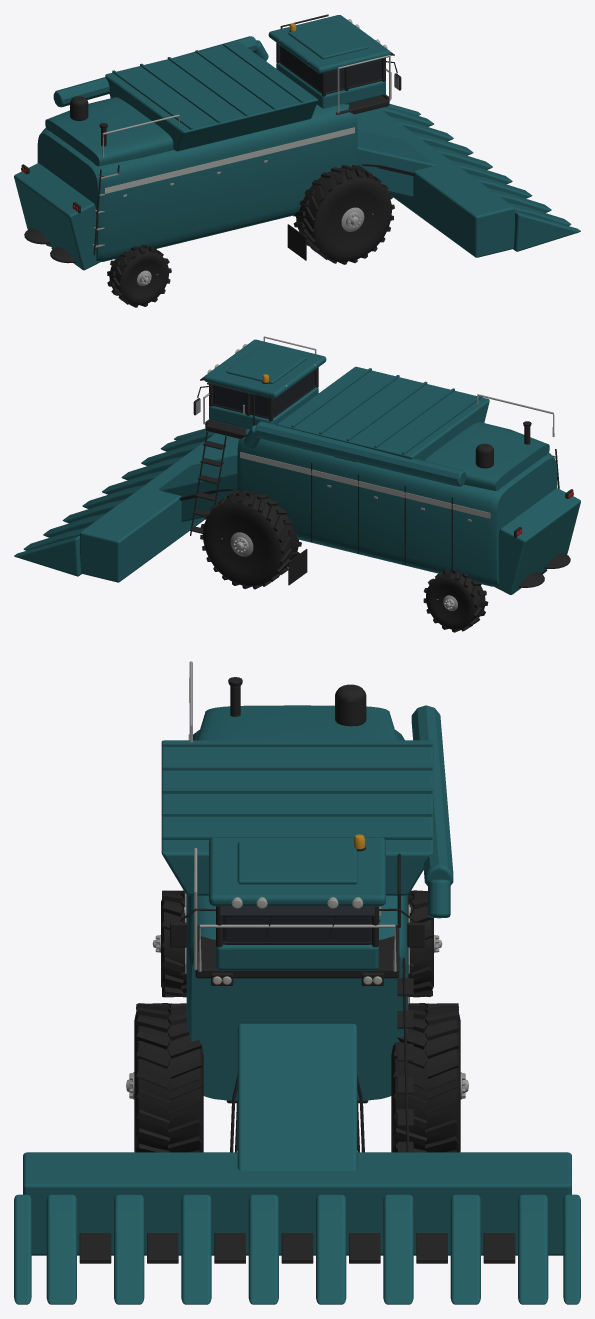
The model's file is SM_Prop_farm_combine_3.glb.
3 renders of one model, top to bottom at view 1: azimuth 30°, elevation 25°; view 2: azimuth 150°, elevation 25°; view 3: azimuth 270°, elevation 25°, orthographic. The views are drawn at different scales.
Visible parts, largest first — view 1: SM_Prop_farm_combine_3; view 2: SM_Prop_farm_combine_3; view 3: SM_Prop_farm_combine_3.
Boxes of the visible parts, x1,y1,x2,y2 form: SM_Prop_farm_combine_3: (14, 14, 580, 307); SM_Prop_farm_combine_3: (14, 336, 580, 632); SM_Prop_farm_combine_3: (14, 661, 580, 1304).
Size of the model in its own units: 10.3 by 4.1 by 6.4.
